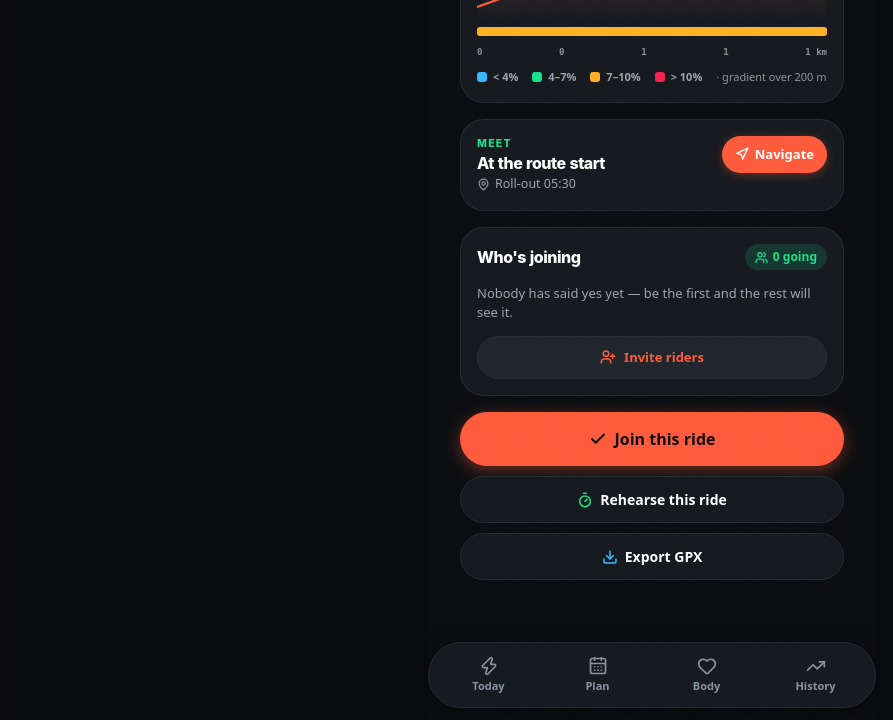
Test: CrewEventDetailView — "Rehearse this ride" › rehearses the event and lands on the rehearsal page
(page scrolled)
Click the button "Rehearse this ride". click: (652, 500)
box: [460, 476, 844, 523]
(page scrolled)
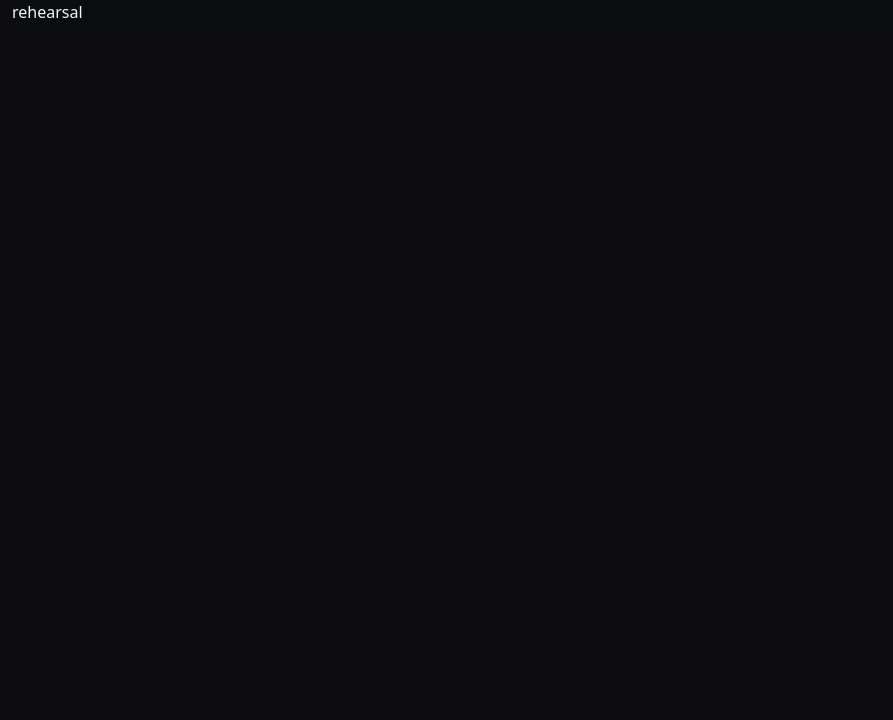
Result: the text "rehearsal" is shown at [12, 1, 83, 23]
